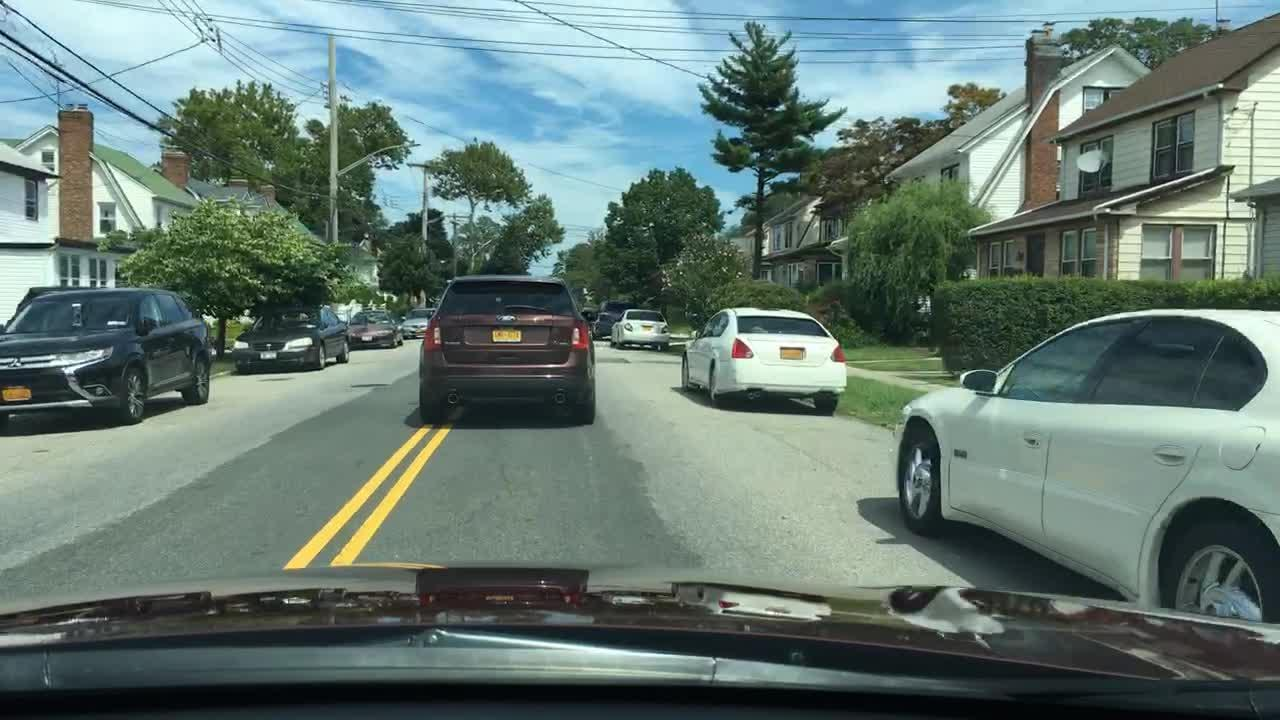Mitsubishi: (0, 351, 34, 378)
